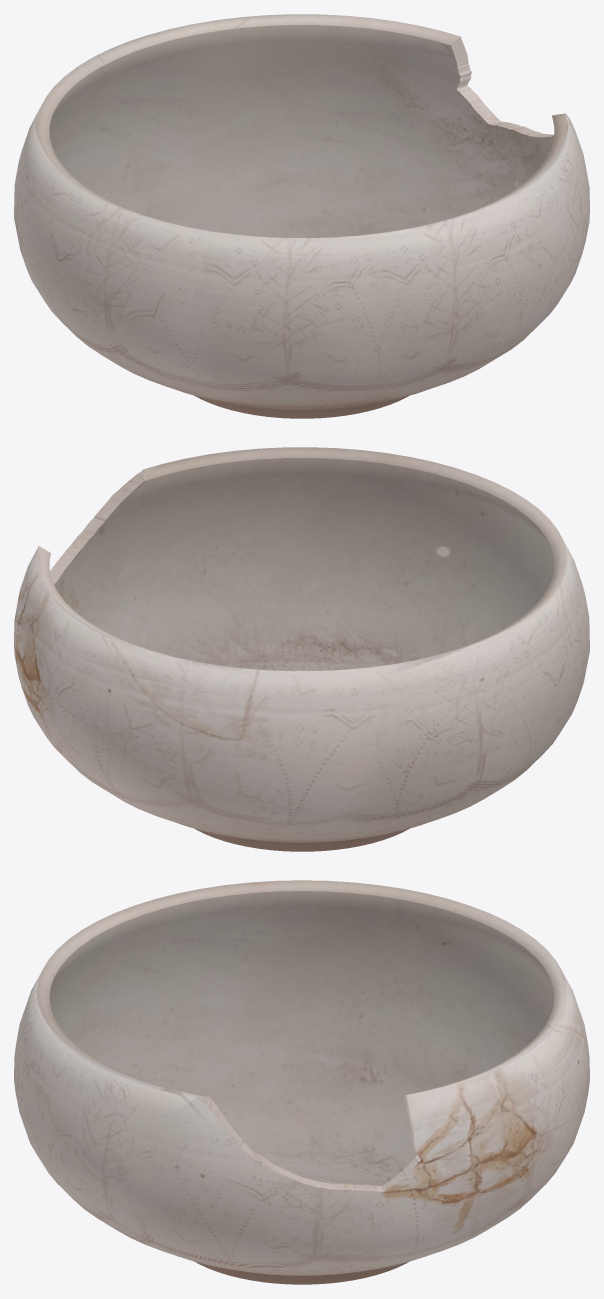
Rendered from vazo_0.glb.
3 renders of one model, top to bottom at view 1: azimuth 30°, elevation 25°; view 2: azimuth 150°, elevation 25°; view 3: azimuth 270°, elevation 25°, orthographic.
Visible parts, largest first — view 1: VAZO_SPASMENO; view 2: VAZO_SPASMENO; view 3: VAZO_SPASMENO.
Boxes of the visible parts, bbox=[...] form: VAZO_SPASMENO: bbox=[14, 14, 589, 418]; VAZO_SPASMENO: bbox=[14, 447, 589, 851]; VAZO_SPASMENO: bbox=[14, 880, 589, 1284].
Size of the model in its own units: 1.5 by 0.6759 by 1.5.
1 material, 1 textured.
